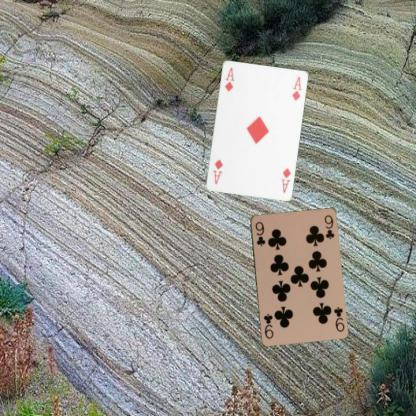9c: (331, 304, 346, 333), (252, 219, 266, 247)
Ad: (278, 165, 292, 194), (222, 65, 236, 92)
